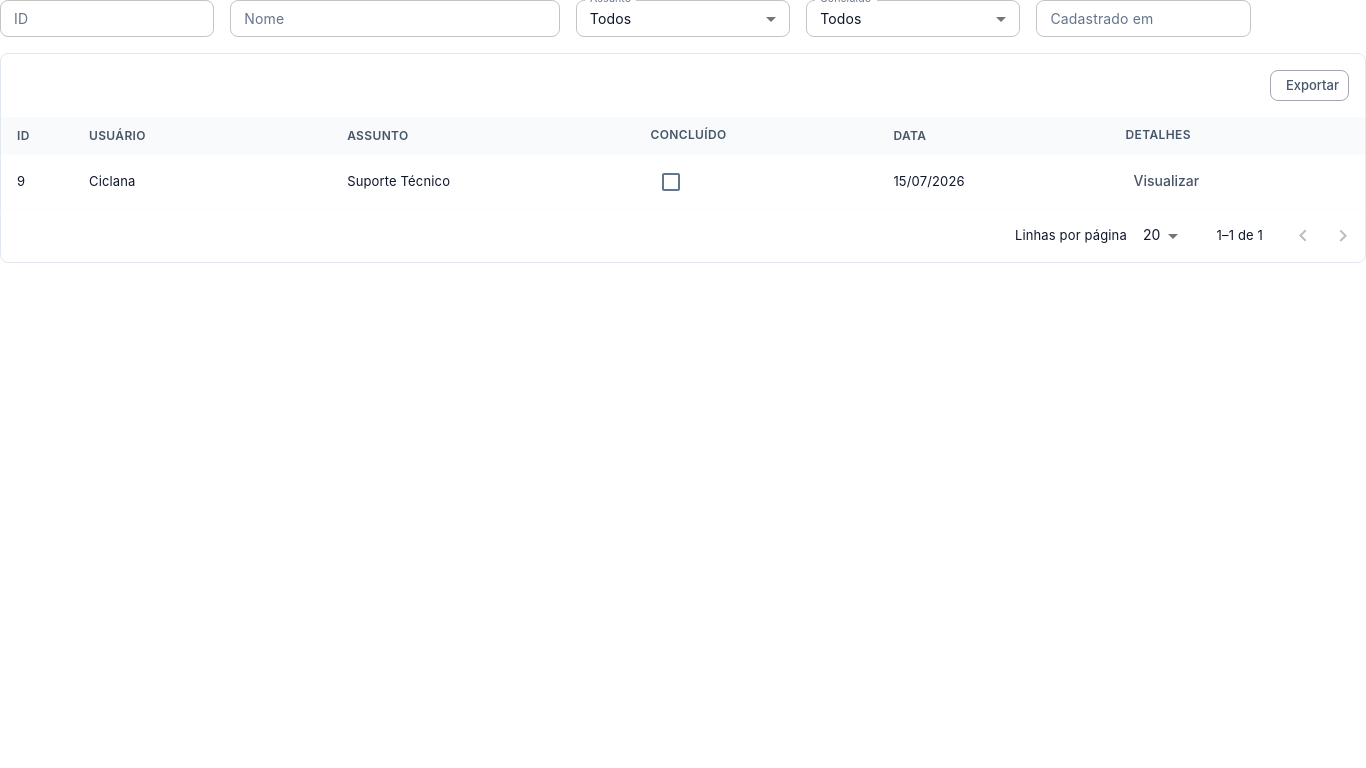
Test: SupportTable › "Visualizar" abre o modal de detalhes com o assunto e link para o usuário
This screenshot has width=1366, height=768.
What coordinates should you click on to do the following:
click the button "Visualizar"
I would click on:
 (1166, 182)
Its box is [1126, 163, 1207, 200].
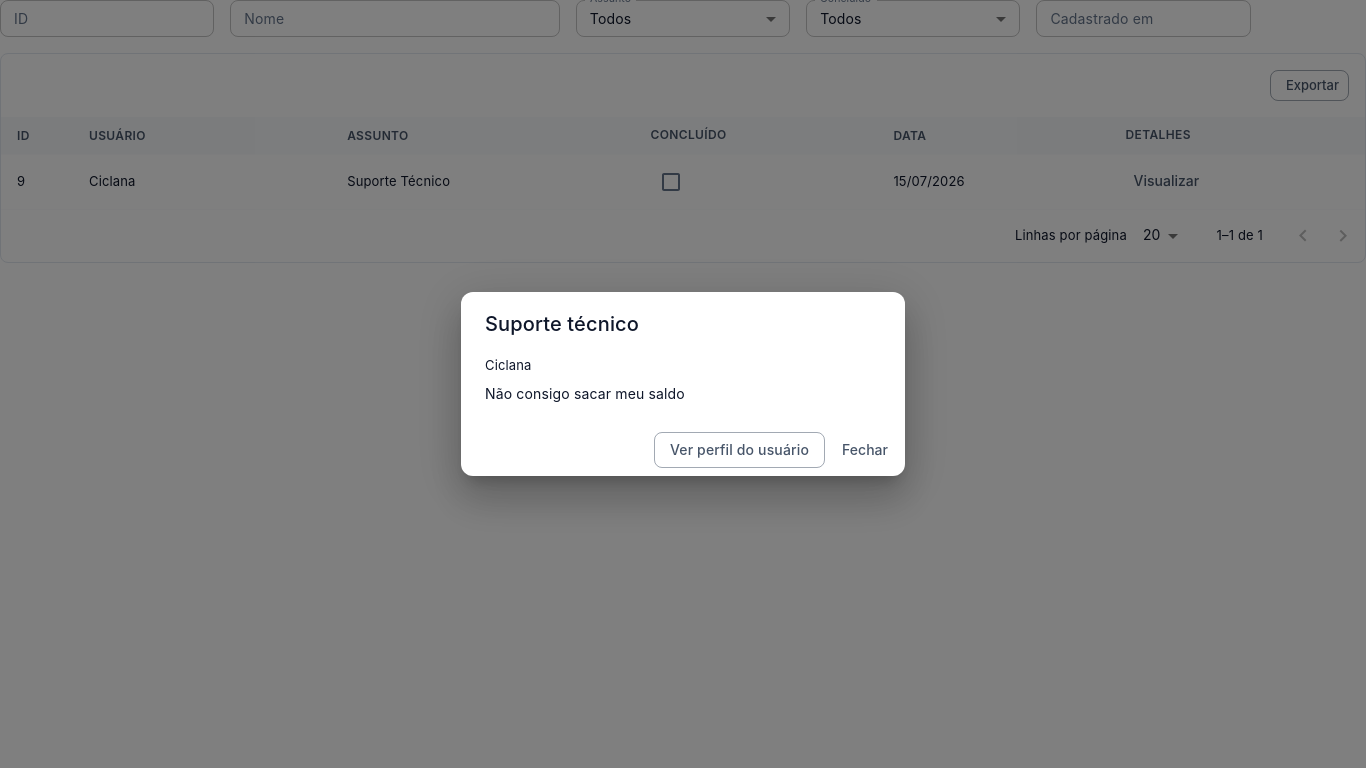
Expected: the text "Não consigo sacar meu saldo" is shown, [485, 384, 685, 402]
